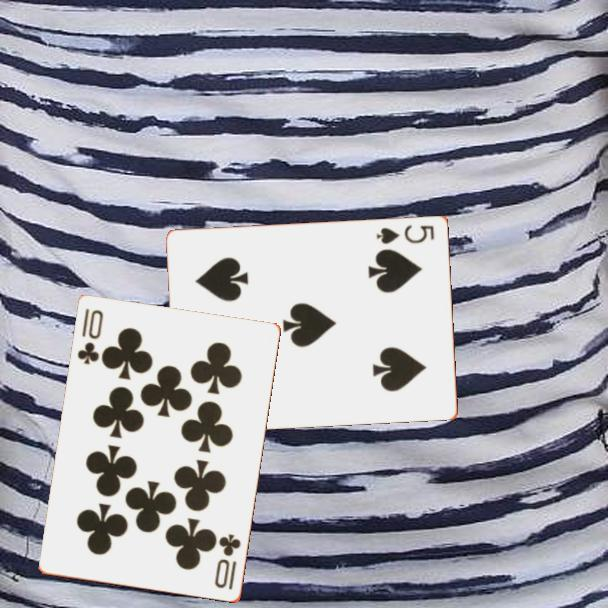c10: (211, 531, 244, 593), (74, 305, 106, 368)
s05: (373, 221, 437, 247)
